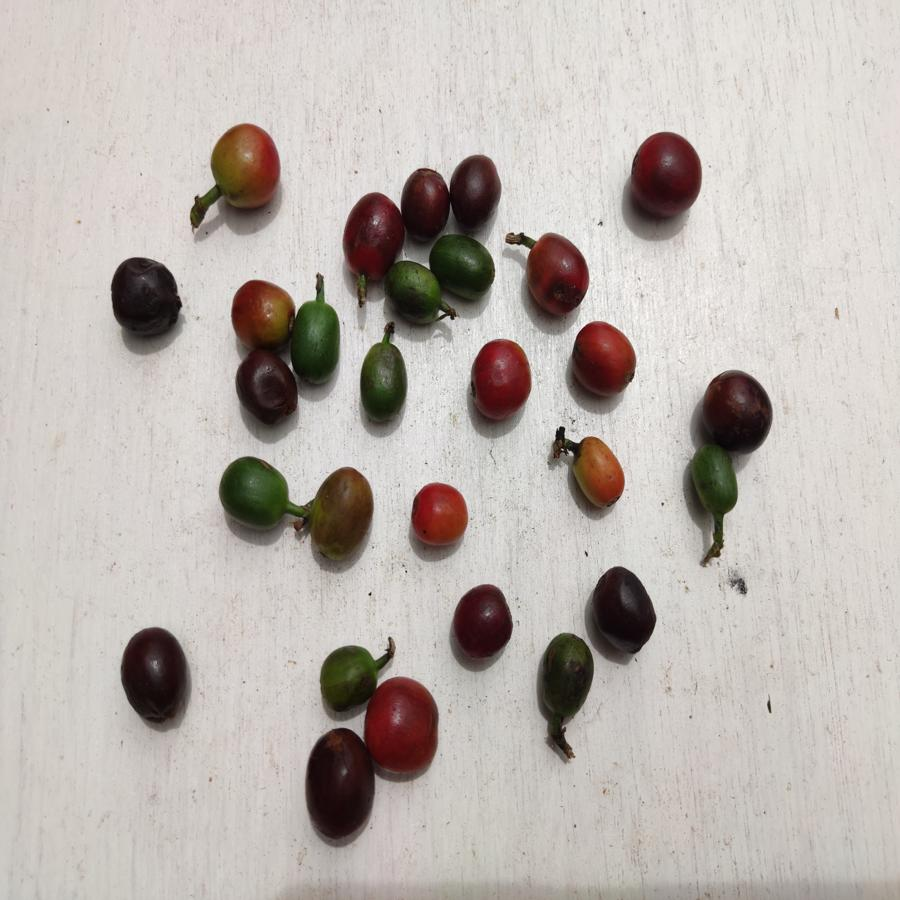Inmaduro: (216, 453, 292, 534), (535, 633, 598, 720), (434, 234, 498, 302), (357, 340, 408, 422), (315, 643, 373, 710), (689, 447, 742, 520), (296, 301, 342, 384), (387, 260, 443, 325)
Maduro: (369, 673, 445, 773), (521, 230, 593, 323), (572, 320, 639, 404), (466, 339, 535, 420), (411, 480, 480, 554)
Pinton: (307, 465, 376, 565), (209, 123, 286, 212), (561, 431, 628, 510), (226, 277, 295, 345)
Sobremaduro: (304, 726, 376, 839), (632, 126, 704, 220), (121, 628, 190, 726), (111, 253, 182, 338), (593, 562, 659, 653), (452, 581, 521, 664), (701, 368, 774, 446), (341, 190, 393, 276), (236, 350, 296, 424), (450, 154, 508, 230), (401, 166, 450, 236)
